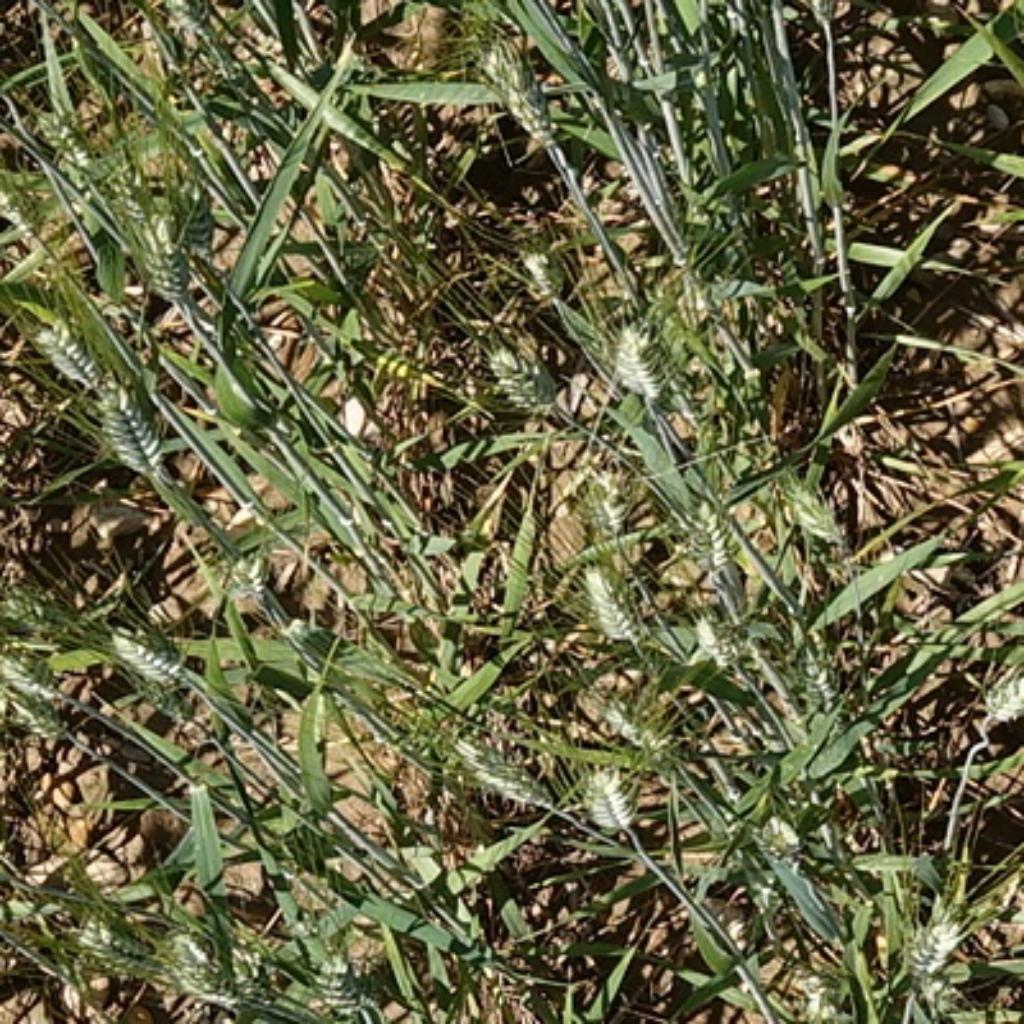0-0: (106, 153, 196, 308), (576, 657, 688, 768), (465, 20, 568, 140), (435, 724, 552, 819), (28, 289, 122, 384), (99, 609, 199, 698), (87, 363, 171, 468), (473, 317, 565, 412), (563, 448, 647, 552), (570, 545, 655, 640), (668, 481, 750, 573), (901, 893, 974, 993), (64, 914, 158, 989), (596, 309, 668, 396), (785, 476, 857, 550), (371, 2, 453, 66), (501, 220, 570, 296), (309, 931, 373, 1008), (218, 539, 285, 611), (570, 755, 634, 826), (46, 107, 102, 181), (2, 645, 81, 696), (755, 791, 808, 867), (2, 171, 51, 250), (2, 693, 74, 744), (796, 649, 856, 710), (785, 965, 847, 1024), (975, 652, 1024, 721), (692, 609, 742, 670), (181, 189, 218, 245)
